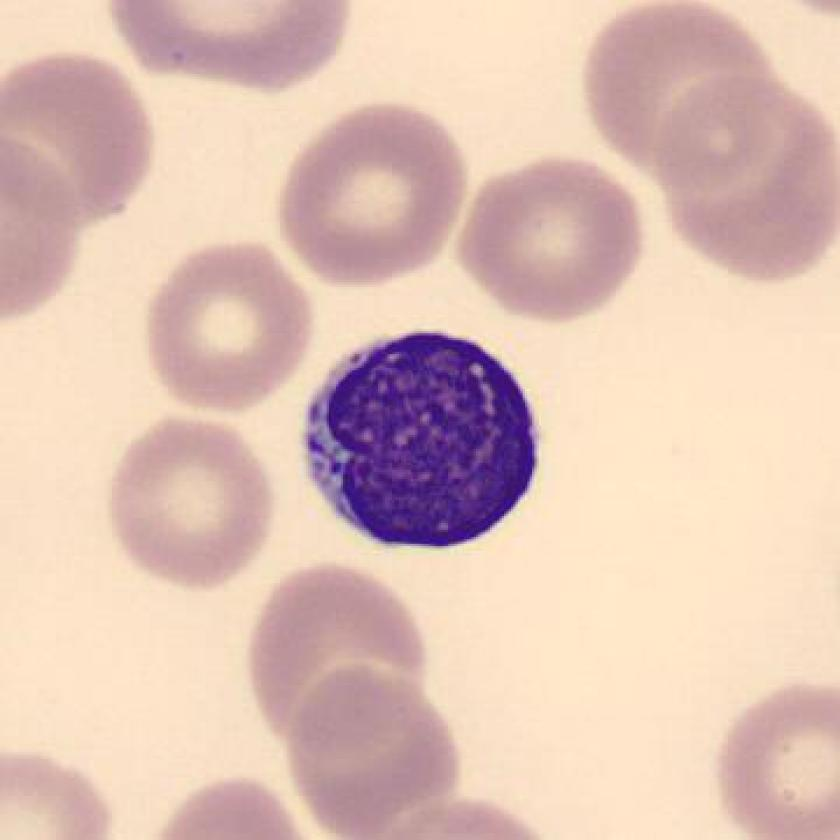lymphocyte: (288, 314, 556, 566)
